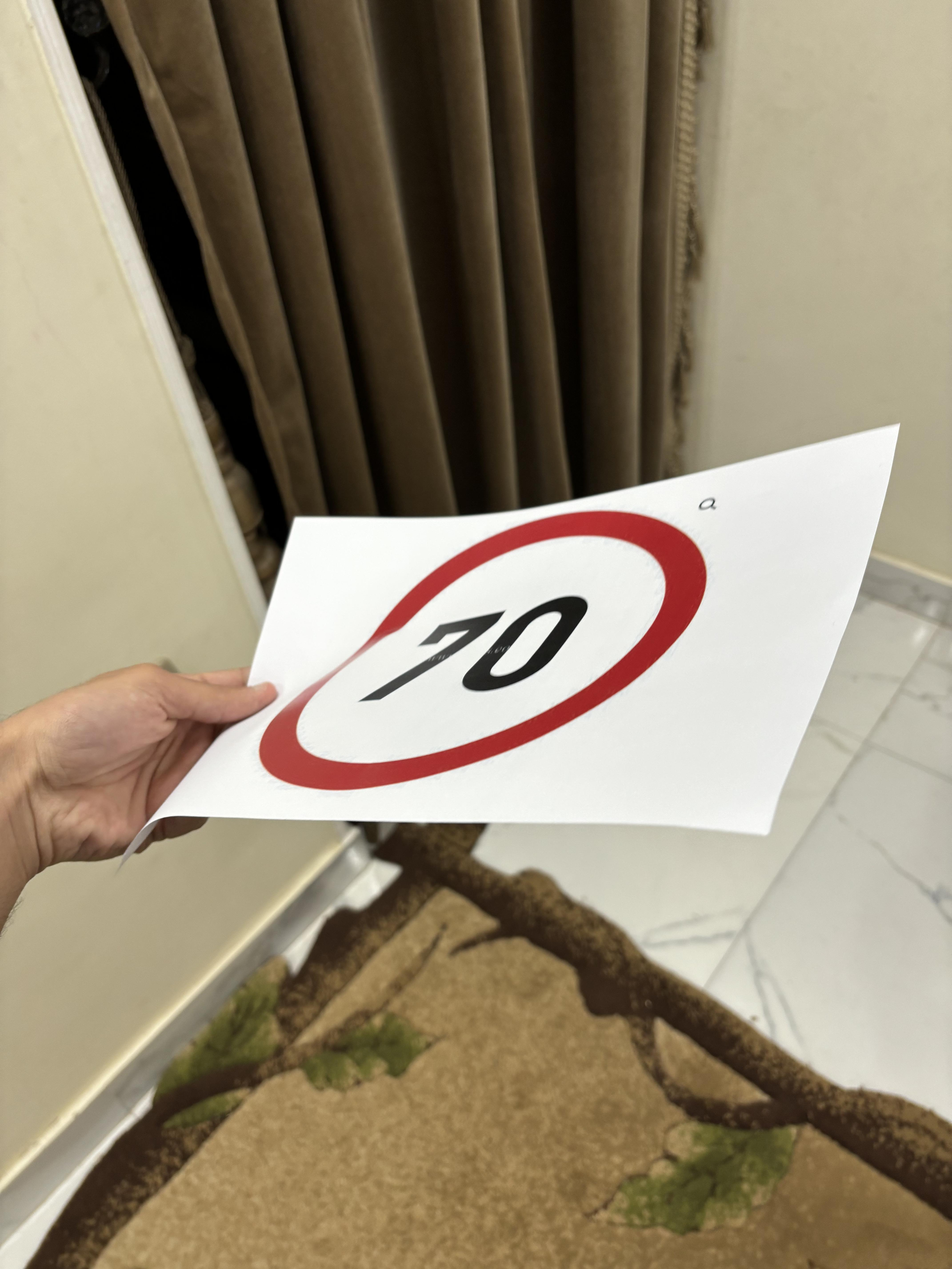70-Speed: (260, 511, 722, 787)
